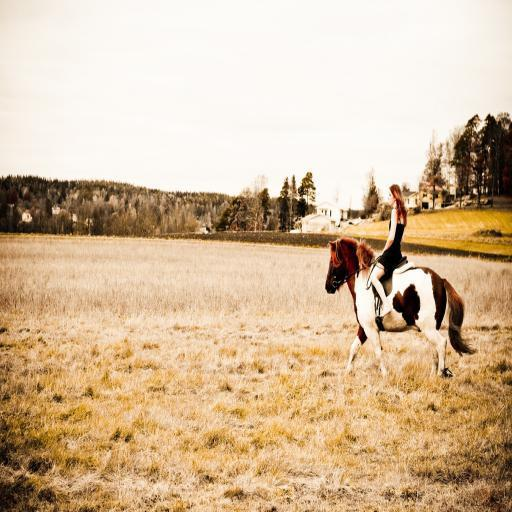horse: (324, 236, 478, 385)
